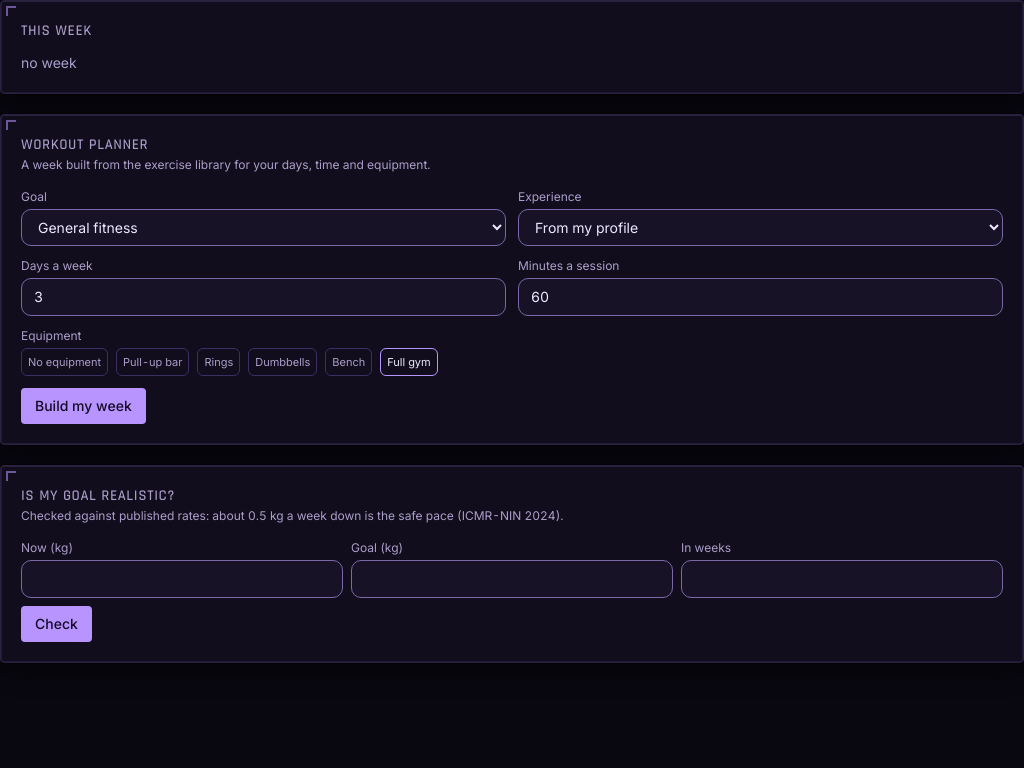
Scenario: PlannerPage › checks a goal
The image size is (1024, 768).
Type "80" into the field labelled "Now (kg)" at (182, 579), box [21,560,343,598]
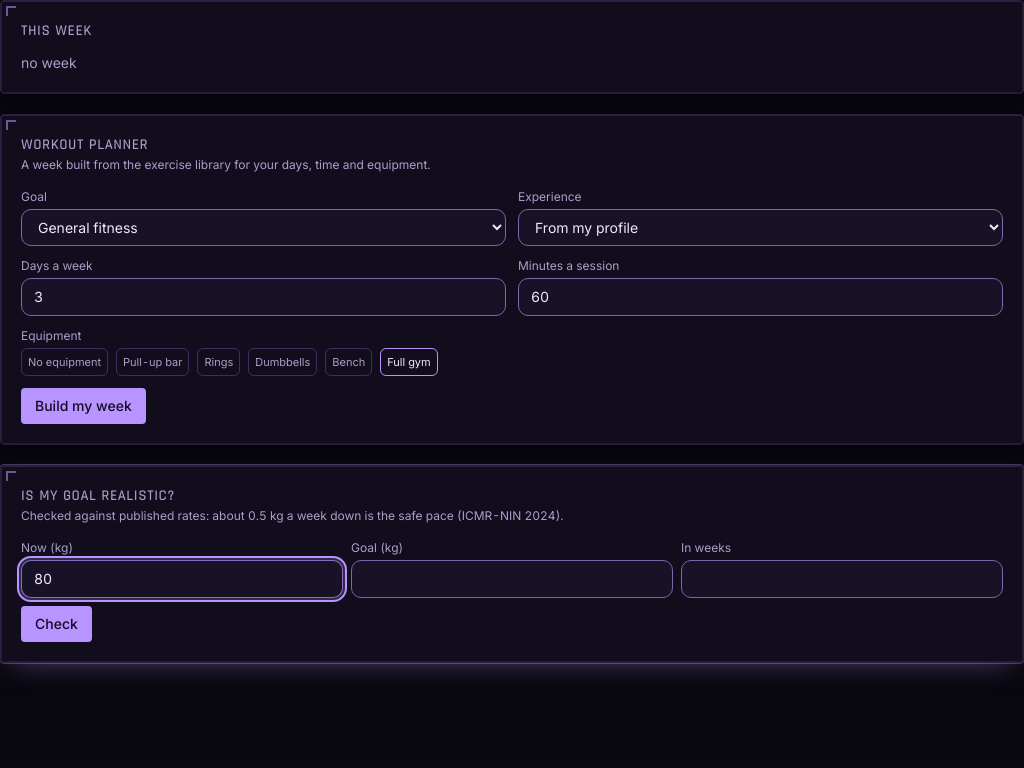
Type "70" into the field labelled "Goal (kg)" at (512, 579), box [351,560,673,598]
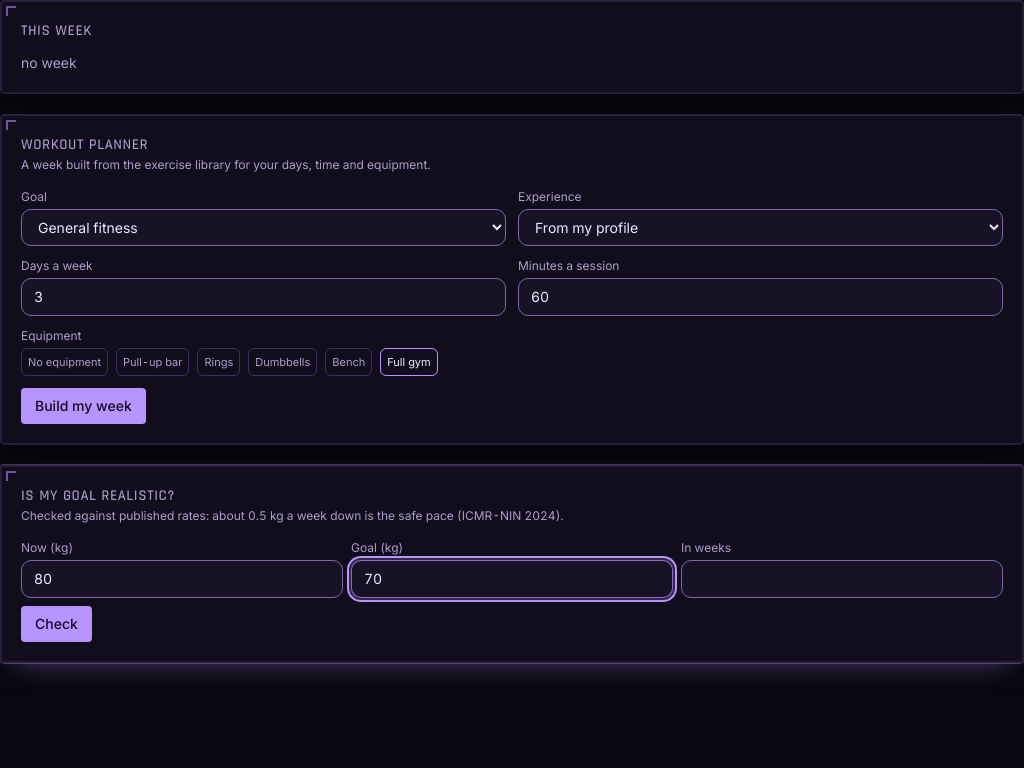
Type "8" into the field labelled "In weeks" at (842, 579), box [681,560,1003,598]
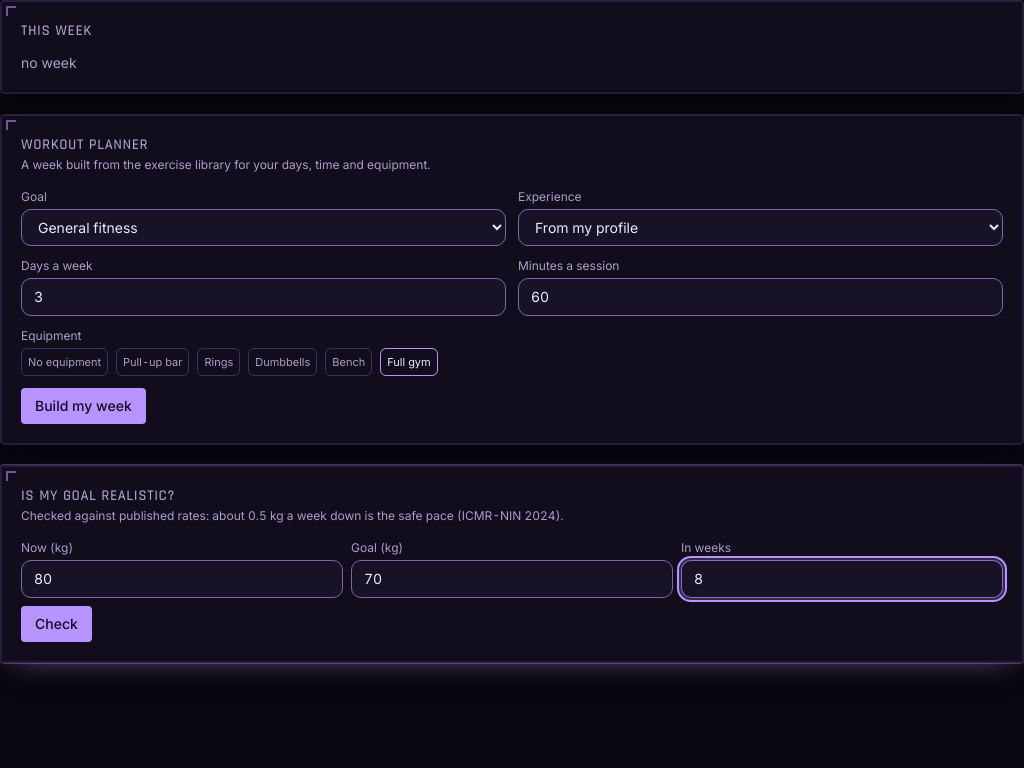
Click the button "Check" at (56, 624), box [21,606,92,642]
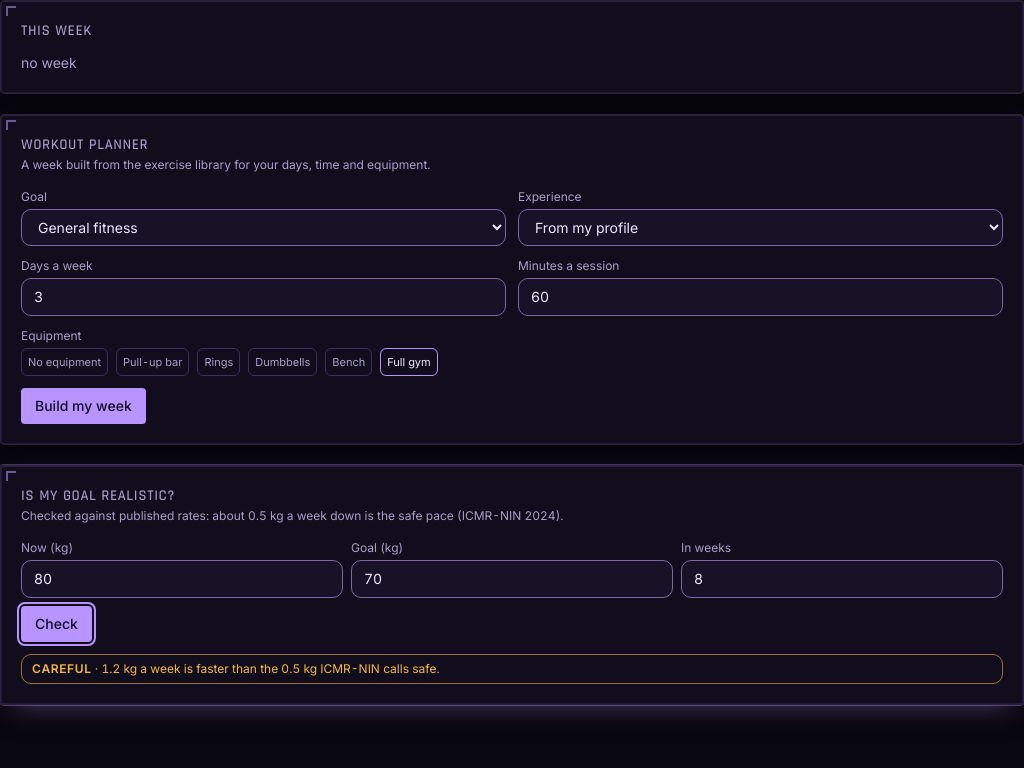
Expected: the list item "faster than the 0.5 kg" is shown, [102,661,440,676]
